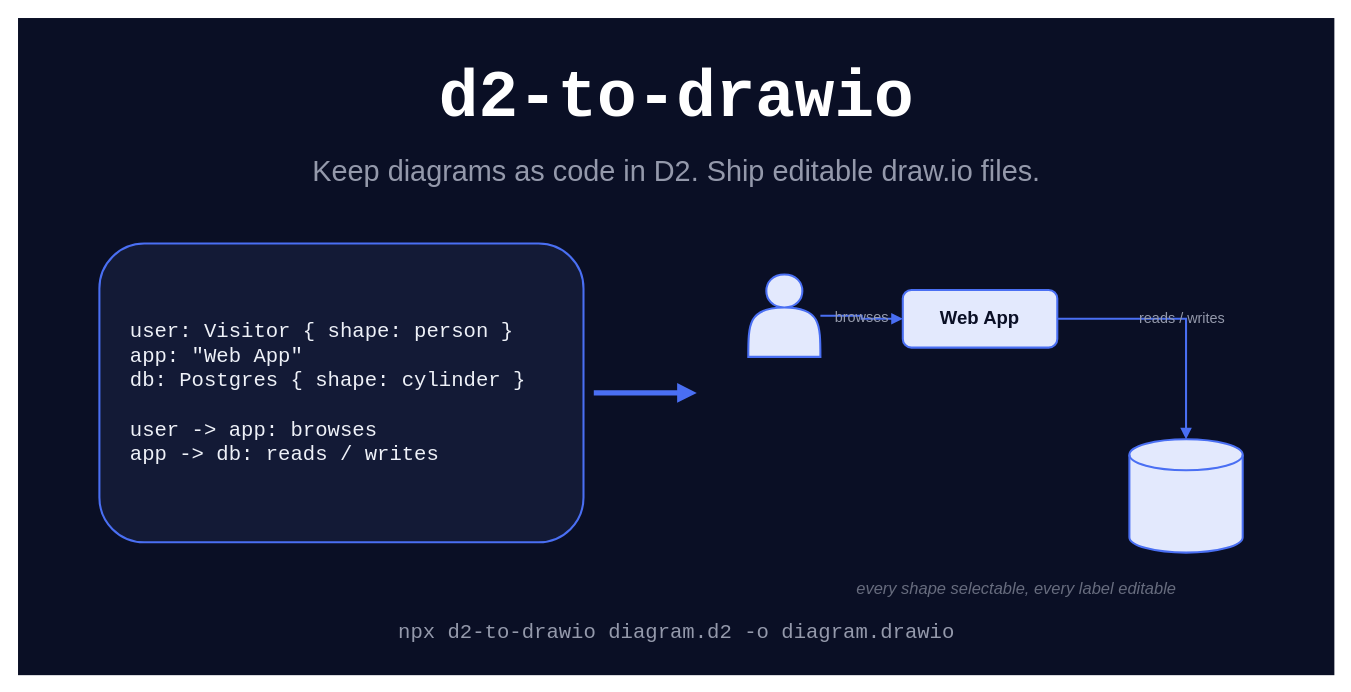
Some shapes in this 1351 by 692 pixel diagram are drawn without their labels. The shapes that lost their labels are listed below. From the top down, each one's centre as x and y in pixels, then its label:
At (784,315): "Visitor".
At (1185,495): "Postgres".
